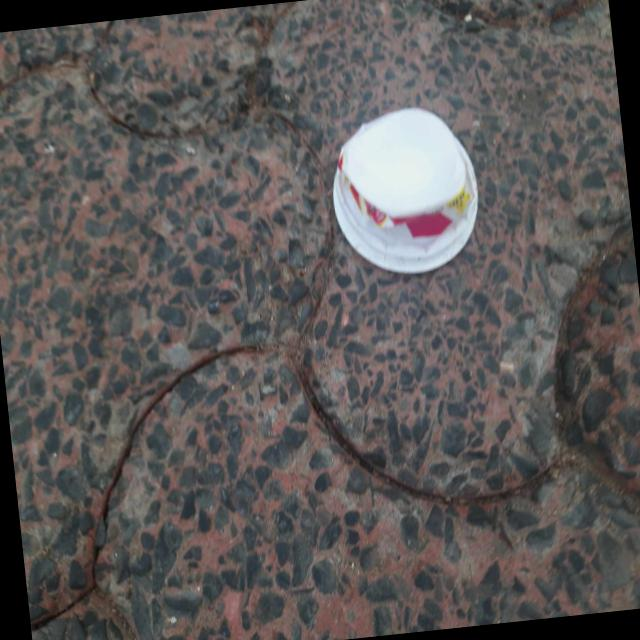hop_nhua: (333, 107, 478, 272)
